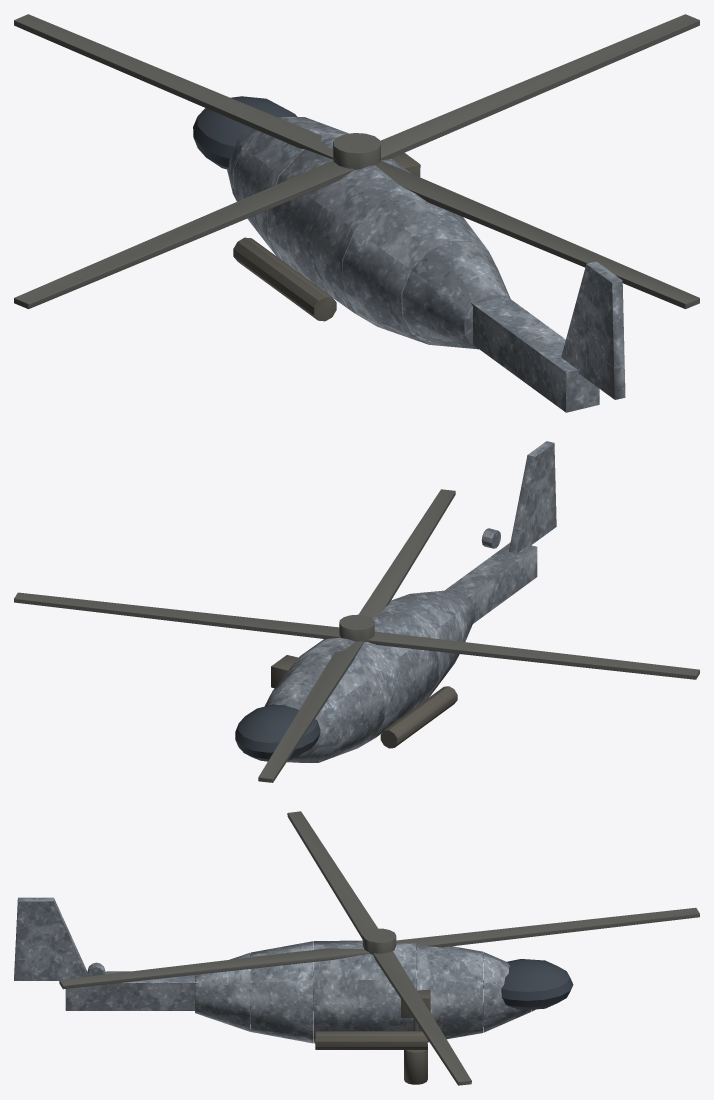
File: hel_e2_us_asw_LOD1.glb
3 views of the same model, one above another, from view 1: azimuth 30°, elevation 25°; view 2: azimuth 150°, elevation 25°; view 3: azimuth 270°, elevation 25° (orthographic). The views are drawn at different scales.
Parts seen in each view (by area): view 1: hel_e2_us_asw_LOD1_body, hel_e2_us_asw_LOD1_gun, hel_e2_us_asw_LOD1_deck, hel_e2_us_asw_LOD1_glass; view 2: hel_e2_us_asw_LOD1_body, hel_e2_us_asw_LOD1_gun, hel_e2_us_asw_LOD1_glass, hel_e2_us_asw_LOD1_deck; view 3: hel_e2_us_asw_LOD1_body, hel_e2_us_asw_LOD1_gun, hel_e2_us_asw_LOD1_deck, hel_e2_us_asw_LOD1_glass.
Part boxes in pixels (left/top/right/bottom): hel_e2_us_asw_LOD1_body: left=227, top=117, right=625, bottom=412; hel_e2_us_asw_LOD1_gun: left=14, top=14, right=699, bottom=309; hel_e2_us_asw_LOD1_deck: left=233, top=153, right=420, bottom=321; hel_e2_us_asw_LOD1_glass: left=193, top=96, right=297, bottom=169; hel_e2_us_asw_LOD1_body: left=264, top=441, right=556, bottom=762; hel_e2_us_asw_LOD1_gun: left=14, top=489, right=699, bottom=782; hel_e2_us_asw_LOD1_glass: left=235, top=704, right=320, bottom=761; hel_e2_us_asw_LOD1_deck: left=271, top=655, right=457, bottom=748; hel_e2_us_asw_LOD1_body: left=14, top=897, right=535, bottom=1043; hel_e2_us_asw_LOD1_gun: left=59, top=811, right=699, bottom=1085; hel_e2_us_asw_LOD1_deck: left=315, top=978, right=430, bottom=1084; hel_e2_us_asw_LOD1_glass: left=483, top=959, right=573, bottom=1010.
Bounding box in the file's own units: 15.92 × 4.35 × 17.05.
Materials: 4 (1 with a texture image).
